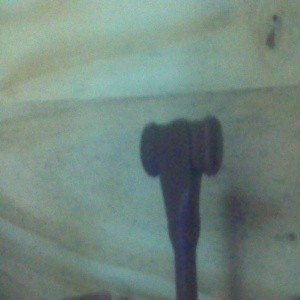palu: (139, 114, 225, 300)
